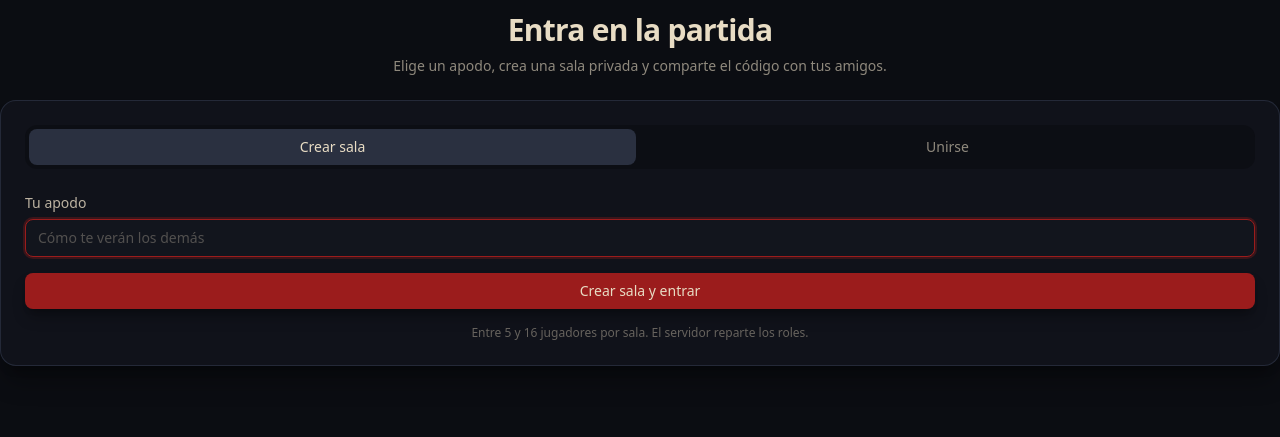
HomeScreen › exige un apodo de entre 3 y 16 caracteres
The width and height of the screenshot is (1280, 437).
In the field labelled "Tu apodo": (640, 238) top-left (25, 219), bottom-right (1255, 257), type "ab"
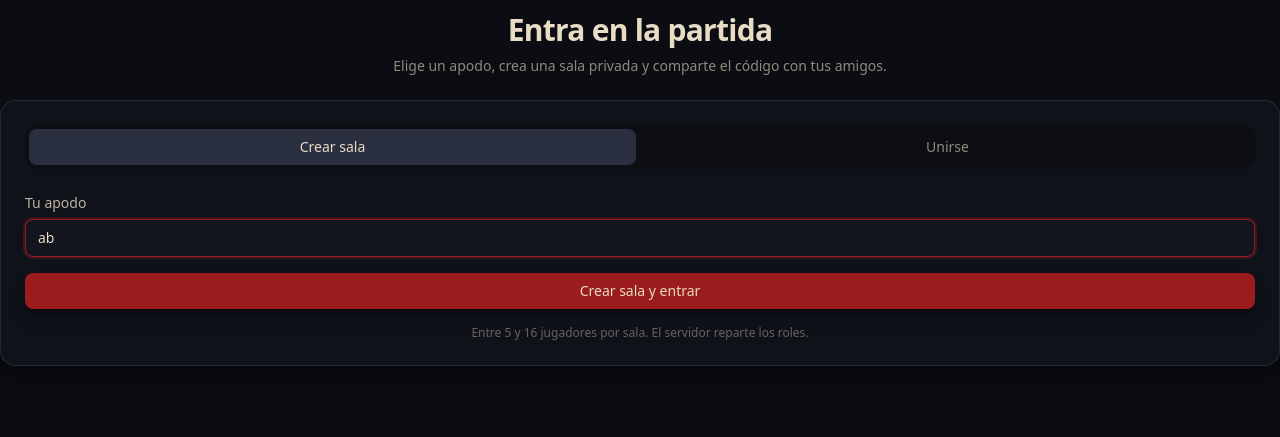
Click the button "Crear sala y entrar": (640, 291) top-left (25, 273), bottom-right (1255, 309)
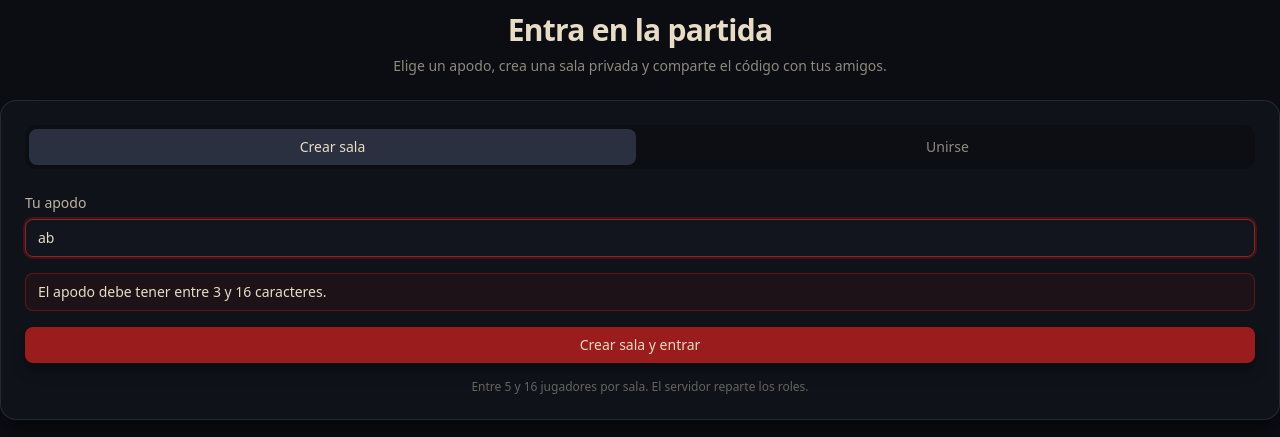
Check: the message shows "entre 3 y 16", box top-left (38, 282), bottom-right (326, 301)
